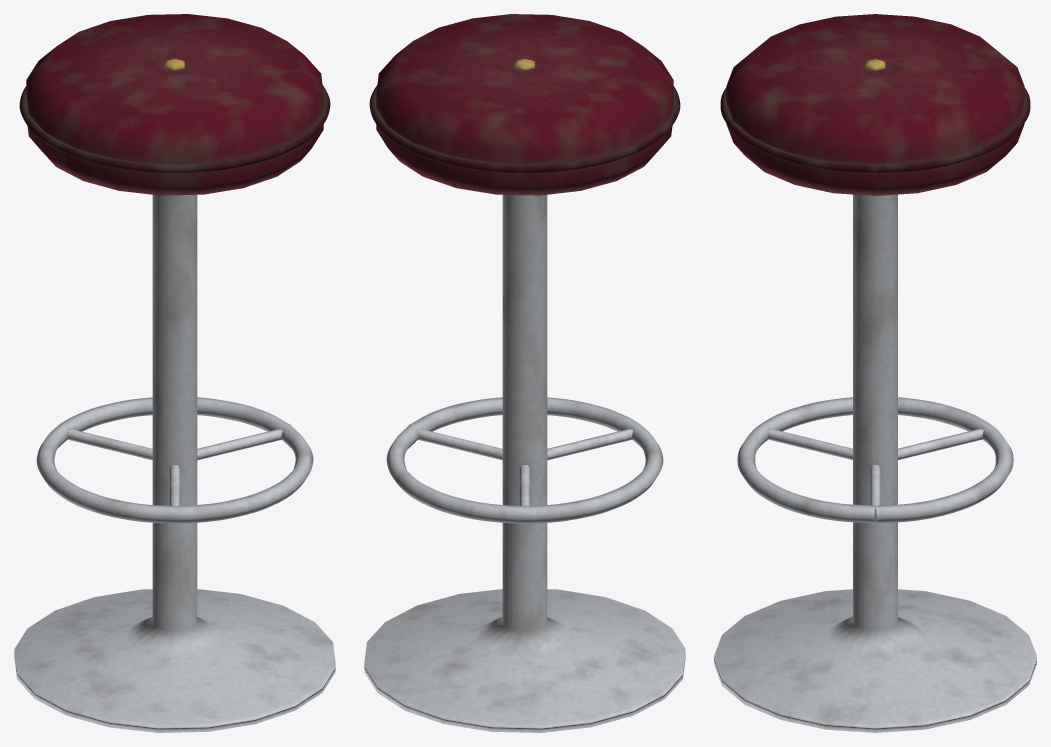
File: klub_stolek.glb
3 renders of one model, left to right at view 1: azimuth 30°, elevation 25°; view 2: azimuth 150°, elevation 25°; view 3: azimuth 270°, elevation 25°, orthographic.
Visible parts, largest first — view 1: Stolek; view 2: Stolek; view 3: Stolek.
Boxes of the visible parts, x1,y1,x2,y2 form: Stolek: (14, 14, 335, 732); Stolek: (364, 14, 685, 732); Stolek: (714, 14, 1036, 732).
Size of the model in its own units: 0.4 by 0.825 by 0.4.
Materials: 1 (1 with a texture image).
